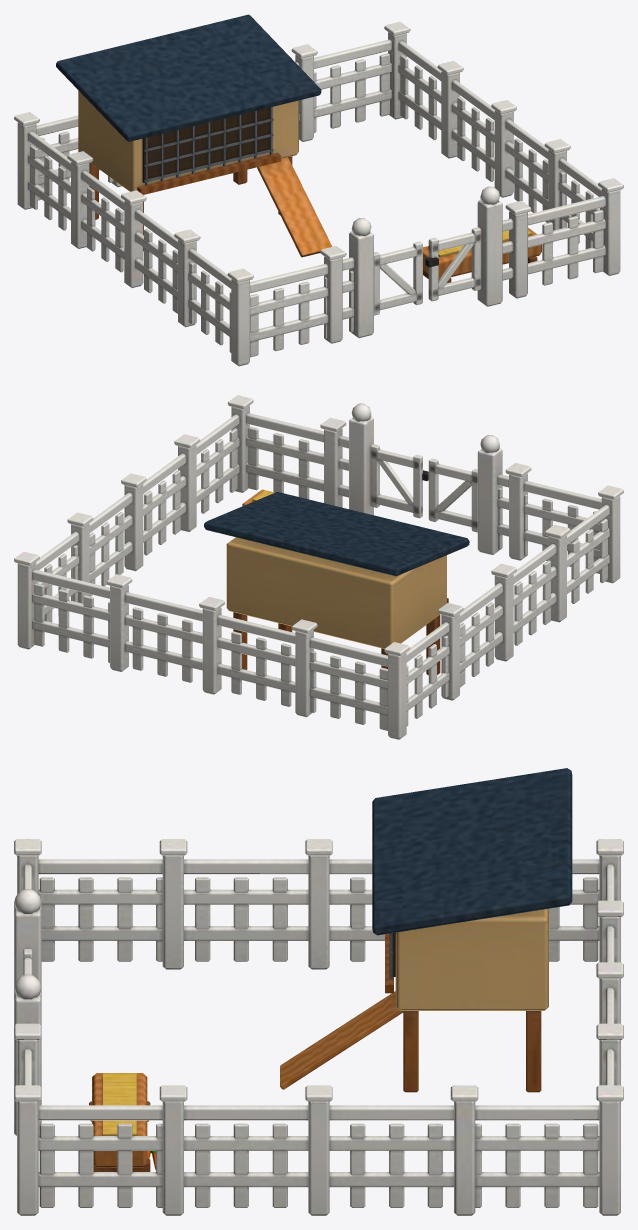
Rendered from dutch_hutch.glb.
3 views of the same model, one above another, from view 1: azimuth 30°, elevation 25°; view 2: azimuth 150°, elevation 25°; view 3: azimuth 270°, elevation 25° (orthographic). The views are drawn at different scales.
Parts seen in each view (by area): view 1: dutch_hutch, gate1, gate0; view 2: dutch_hutch, gate1, gate0; view 3: dutch_hutch.
Boxes of the visible parts, <box> form: dutch_hutch: <box>14,14,623,366</box>; gate1: <box>425,227,481,301</box>; gate0: <box>374,241,422,315</box>; dutch_hutch: <box>14,395,623,739</box>; gate1: <box>370,444,428,518</box>; gate0: <box>428,458,477,532</box>; dutch_hutch: <box>14,768,623,1215</box>.
Size of the model in its own units: 1.99 by 0.7573 by 1.99.
1 material, 1 textured.
